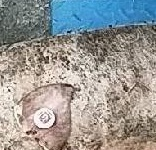text: (28, 102, 62, 135)
